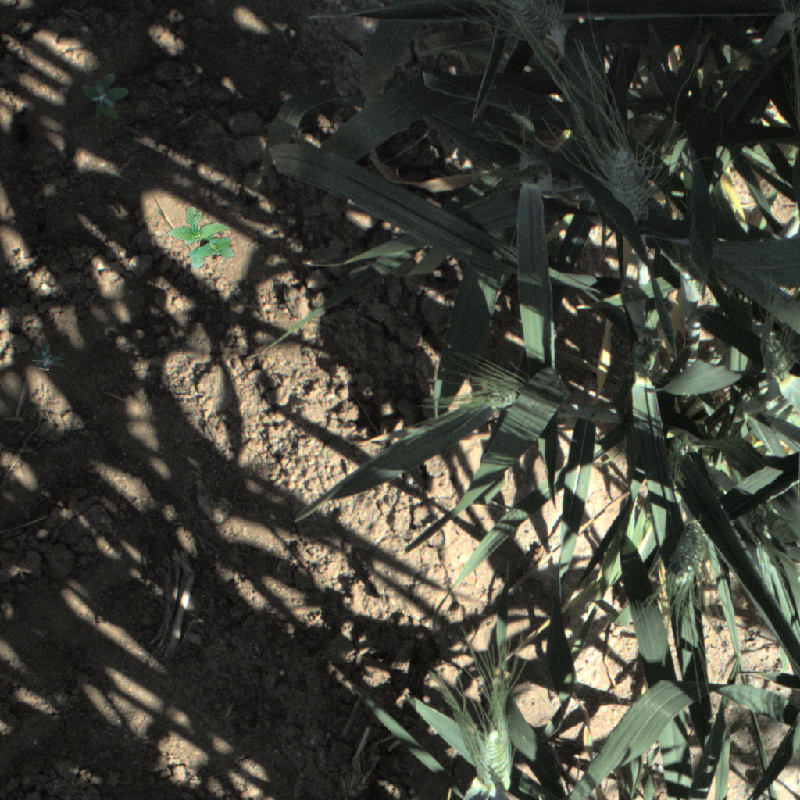spikelet: (605, 145, 655, 218), (667, 517, 710, 585), (478, 723, 516, 791), (502, 1, 567, 35), (757, 327, 798, 377), (514, 150, 553, 186)
weed: (167, 207, 235, 270), (82, 73, 129, 122), (32, 340, 65, 371)
